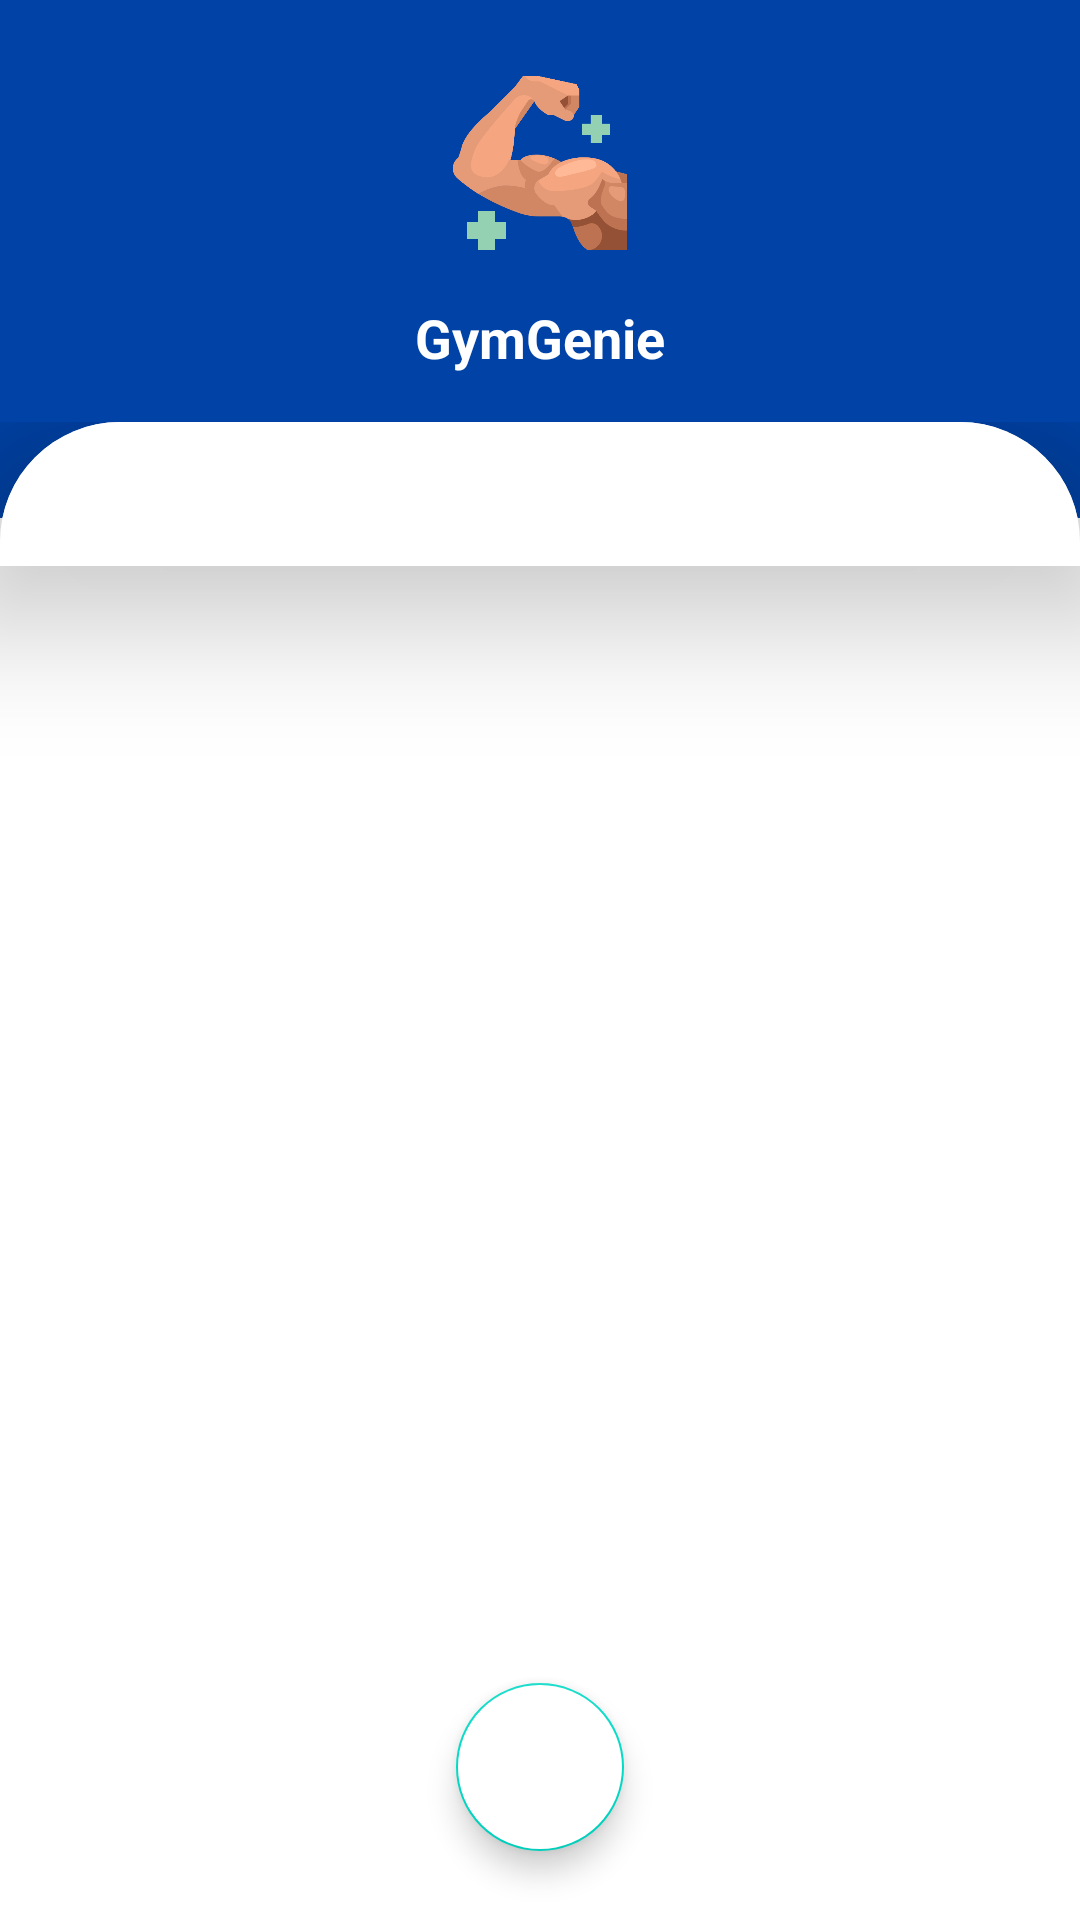

Where to tap for icons on this 1080 x 1920 app screen, as (x=x, y=y):
muscles: (x=540, y=163)
